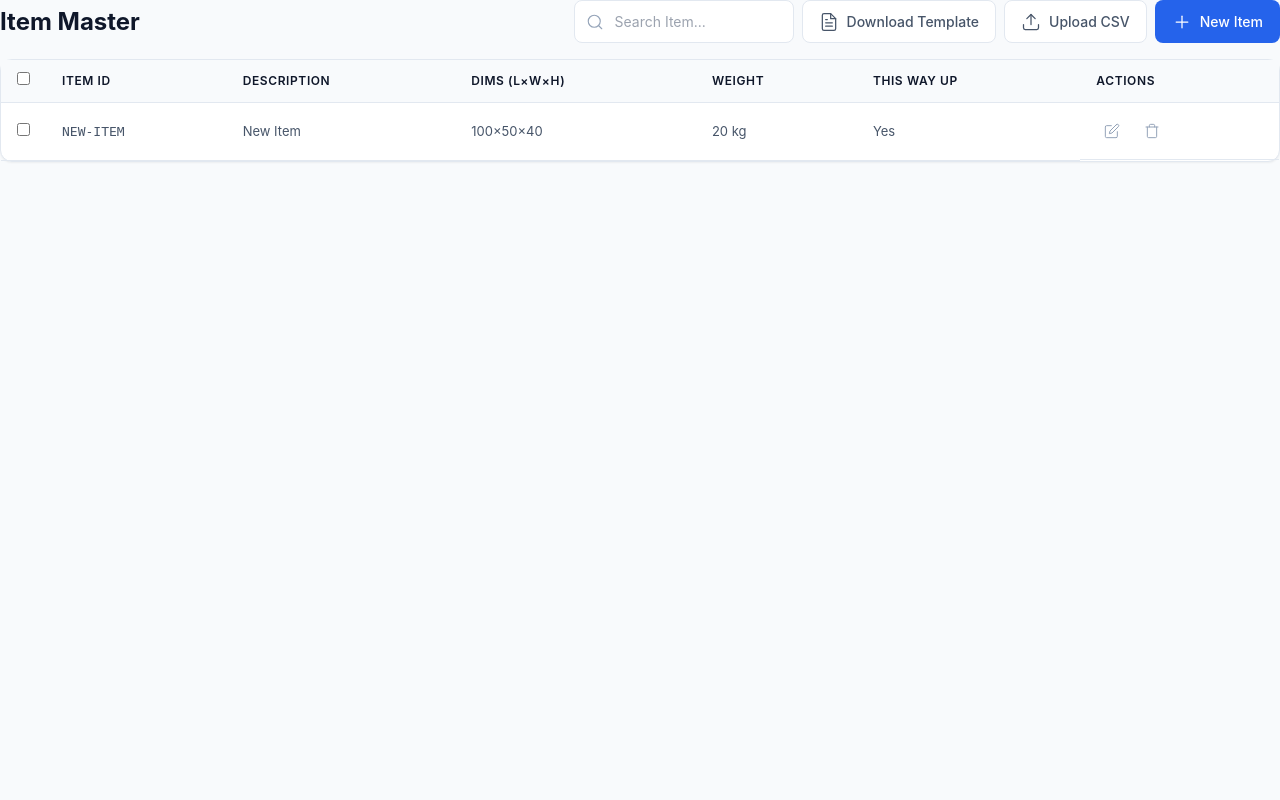
+ New Modal (Section 6.4 - FE-17 to FE-19) › Item Master + New Modal › FE-19: Modal closes and new record selected on success
Click the button "New Item" at (1217, 22), box [1155,0,1279,43]
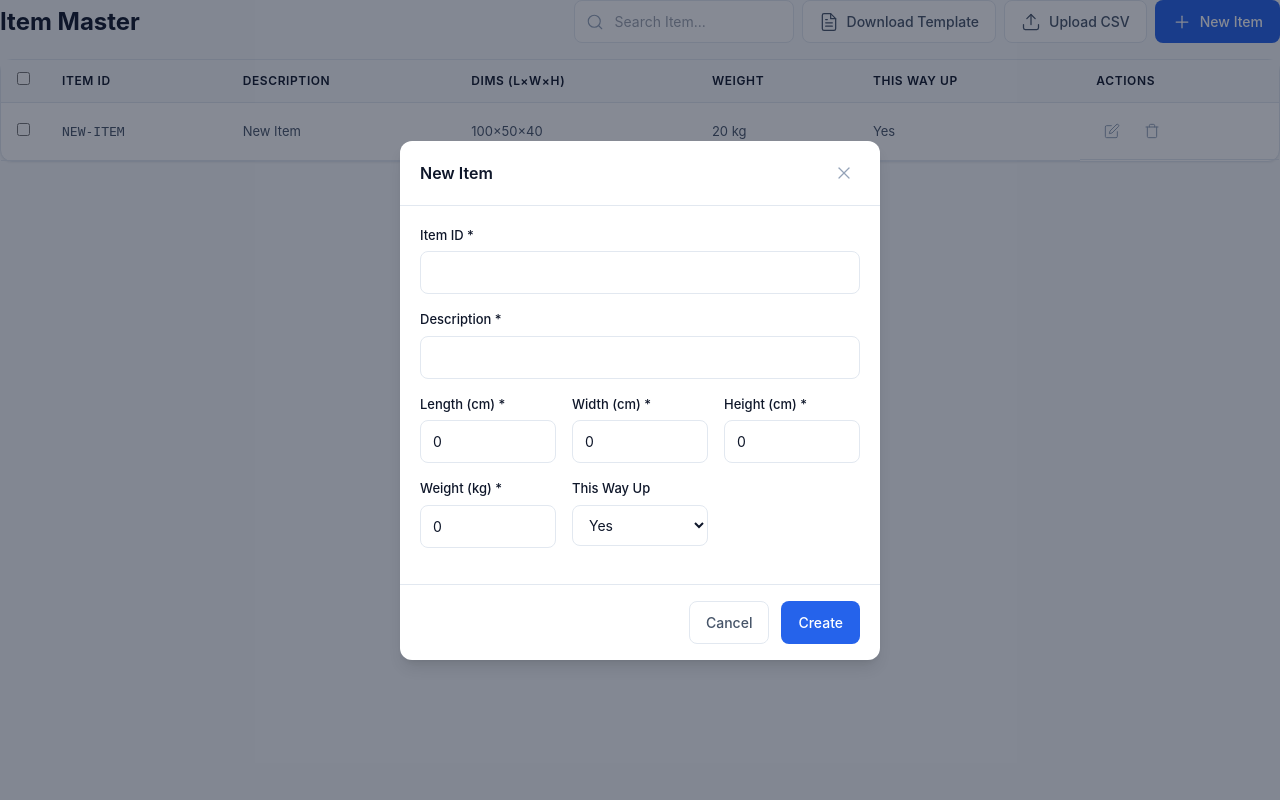
Result: the dialog is shown at [400,140,880,660]
Type "NEW-ITEM" into the field labelled "Item ID *" at (640, 272), box [420,251,860,294]
Type "New Item" into the field labelled "Description *" at (640, 357), box [420,336,860,378]
Replace the text in the number field labelled "Length (cm) *" with "100" at (488, 442), box [420,420,556,463]
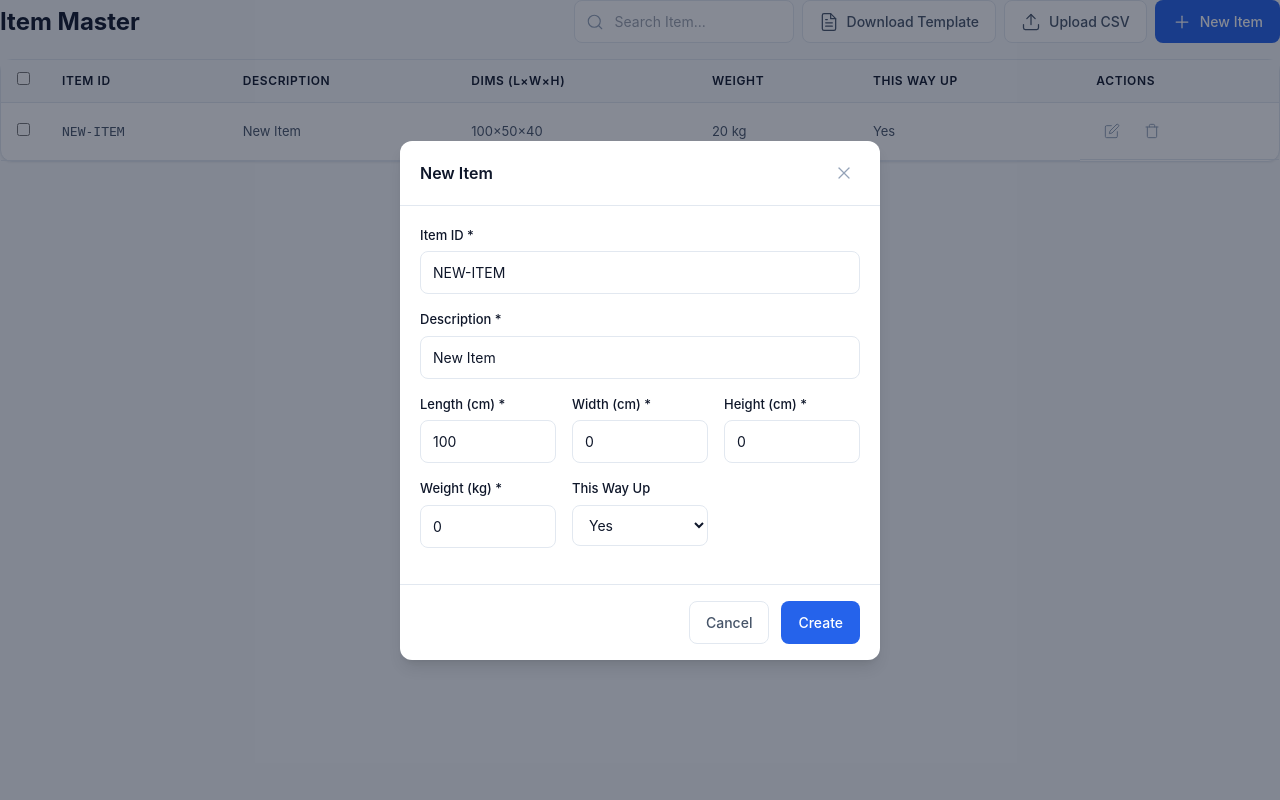
Replace the text in the number field labelled "Width (cm) *" with "50" at (640, 442), box [572,420,708,463]
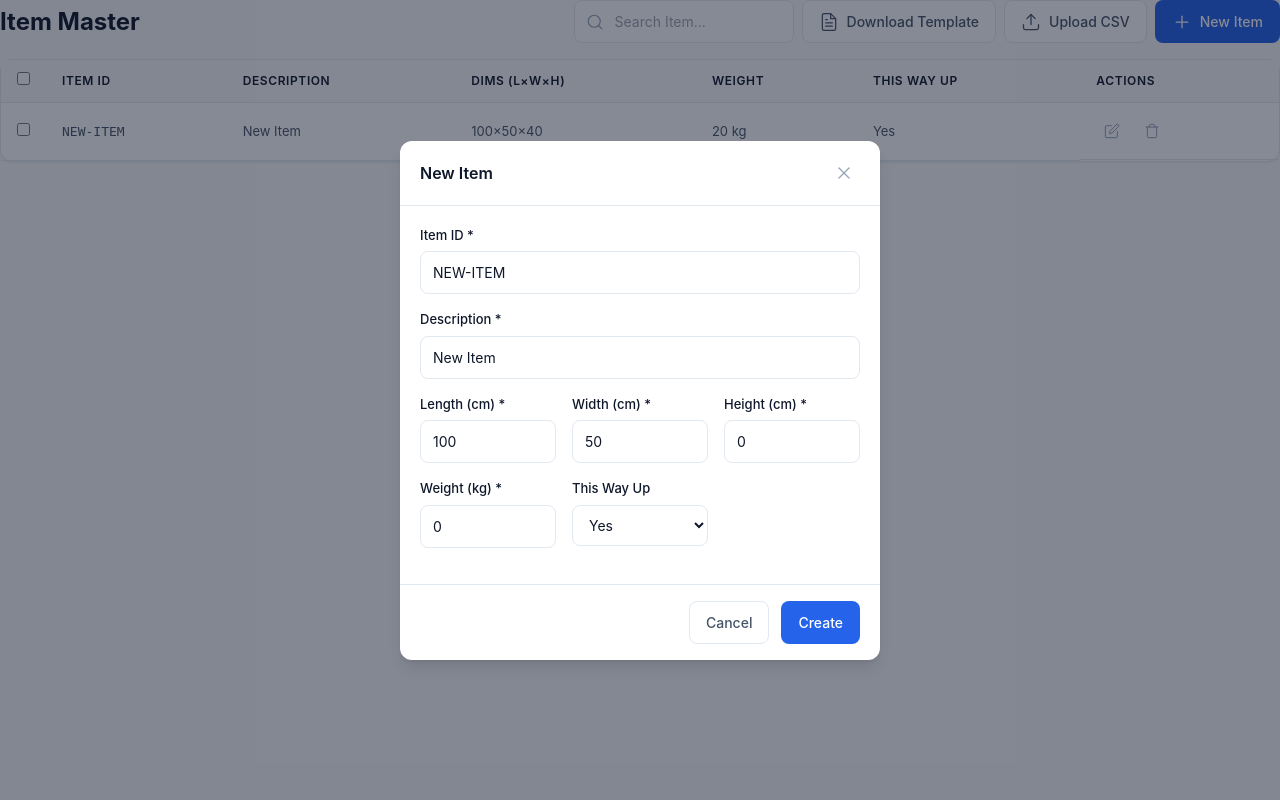
Replace the text in the number field labelled "Height (cm) *" with "40" at (792, 442), box [724,420,860,463]
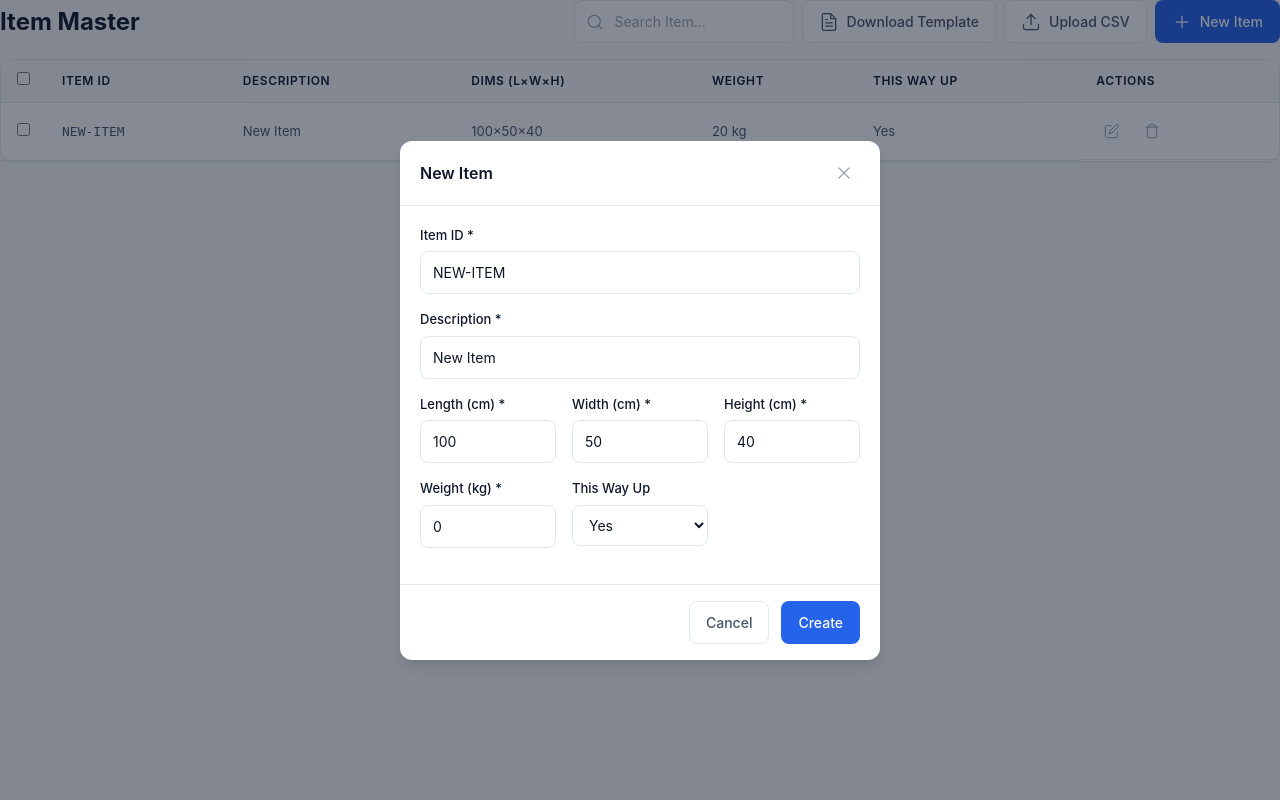
Replace the text in the number field labelled "Weight (kg) *" with "20" at (488, 526), box [420,504,556,548]
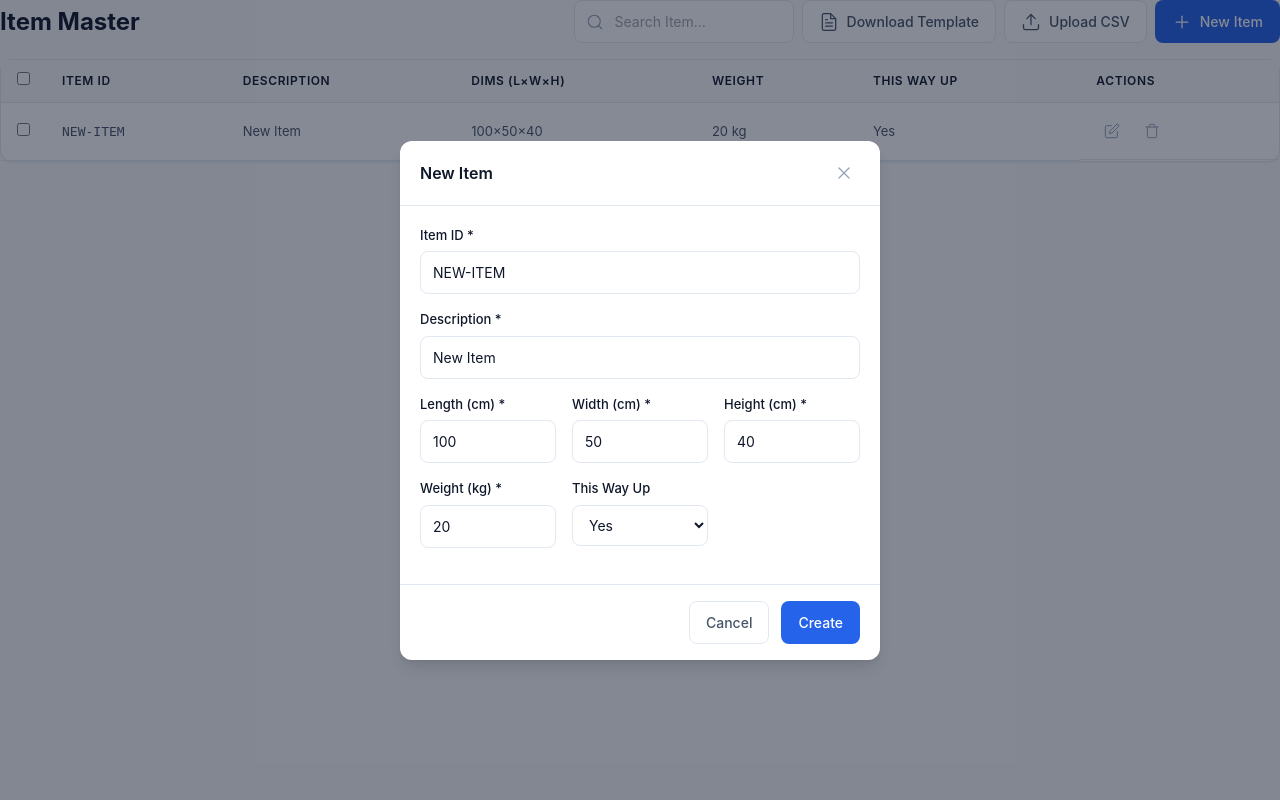
Click the button "Create" at (821, 622), box [781,600,860,644]
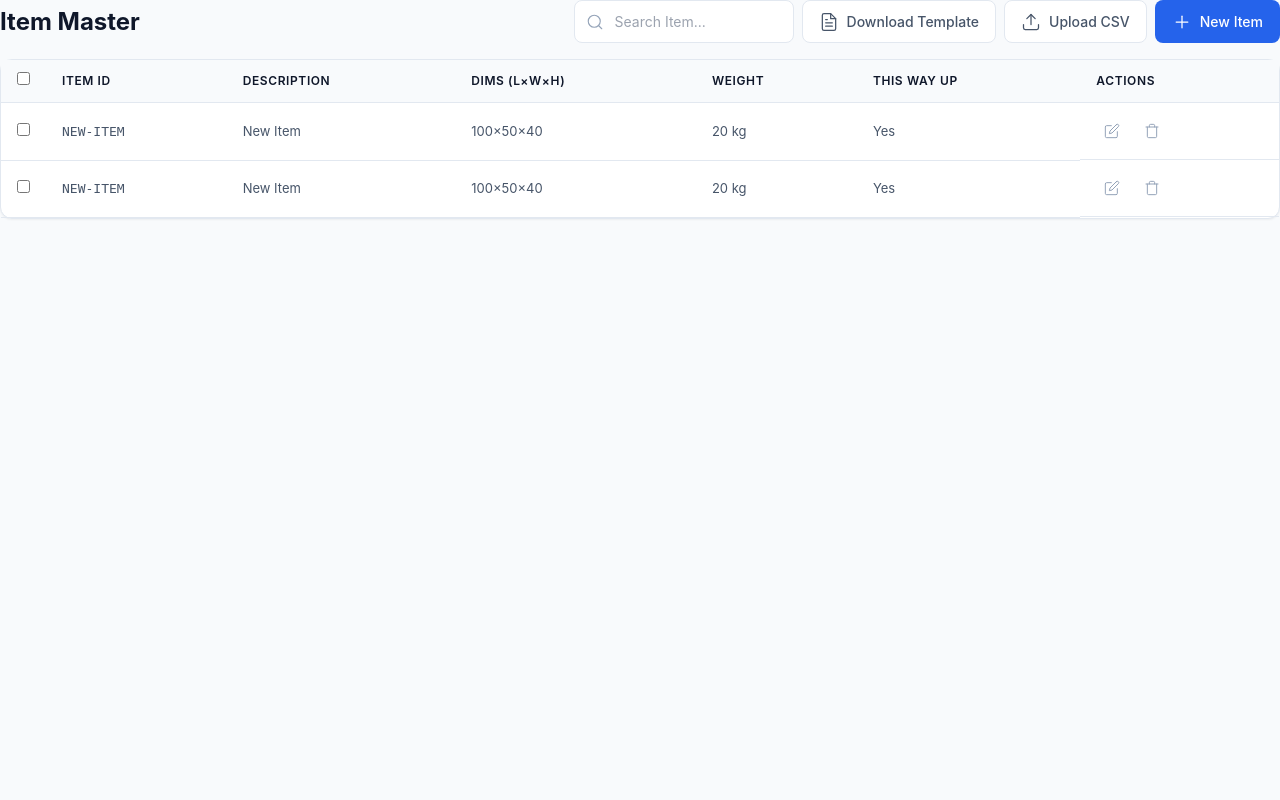
Expected: the 1st text "NEW-ITEM" is shown, [46,102,227,160]
Result: the dialog is gone
